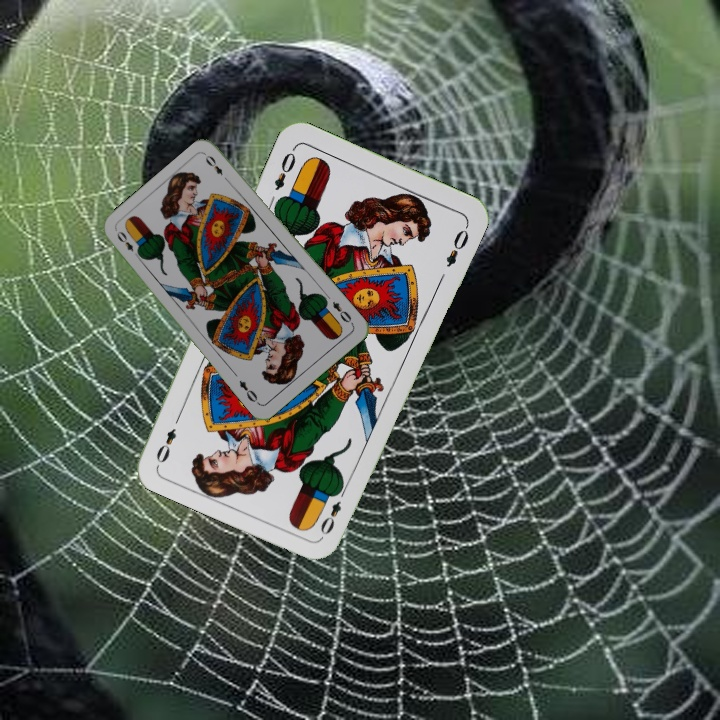EO: (316, 483, 349, 538), (270, 143, 299, 193), (112, 227, 143, 261), (328, 297, 356, 327)
